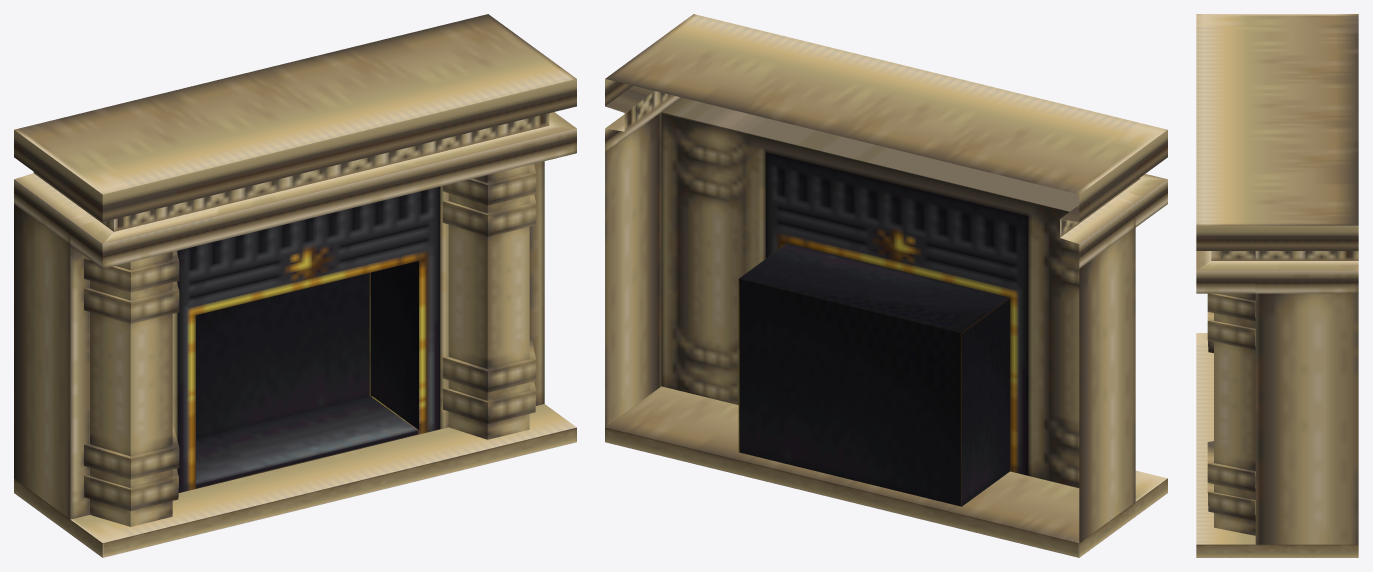
File: Inside_Poly_Fire_Place_04.obj
3 views of the same model, side by side, from view 1: azimuth 30°, elevation 25°; view 2: azimuth 150°, elevation 25°; view 3: azimuth 270°, elevation 25° (orthographic). The views are drawn at different scales.
Visible parts, largest first — view 1: Cube, Cube.002, Cube.001; view 2: Cube, Cube.001; view 3: Cube, Cube.002, Cube.001.
Part boxes in pixels (x1,y1,x2,y2): Cube: (14,14,576,519); Cube.002: (84,164,536,526); Cube.001: (14,396,576,557); Cube: (605,14,1167,542); Cube.001: (605,386,1167,557); Cube: (1196,14,1358,544); Cube.002: (1207,293,1255,535); Cube.001: (1196,333,1358,557).
Size of the model in its own units: 3 by 2.2 by 0.971.
1 material, 1 textured.
